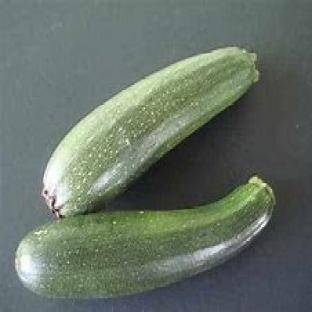Zucchini: (43, 47, 258, 216), (16, 177, 274, 298)
